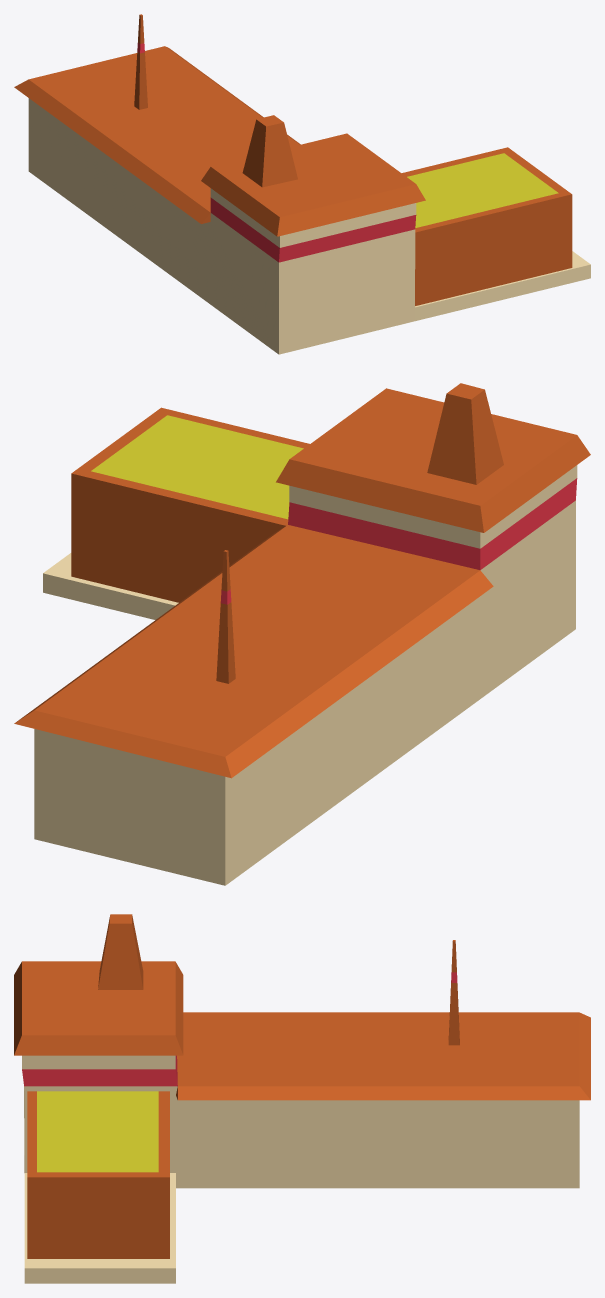
Rendered from House_14.fbx.
3 renders of one model, top to bottom at view 1: azimuth 30°, elevation 25°; view 2: azimuth 150°, elevation 25°; view 3: azimuth 270°, elevation 25°, orthographic. The views are drawn at different scales.
Parts seen in each view (by area): view 1: House_14; view 2: House_14; view 3: House_14.
Boxes of the visible parts, <box> form: House_14: <box>14,14,590,354</box>; House_14: <box>14,383,590,885</box>; House_14: <box>14,914,590,1283</box>.
Size of the model in its own units: 256 by 147 by 358.
